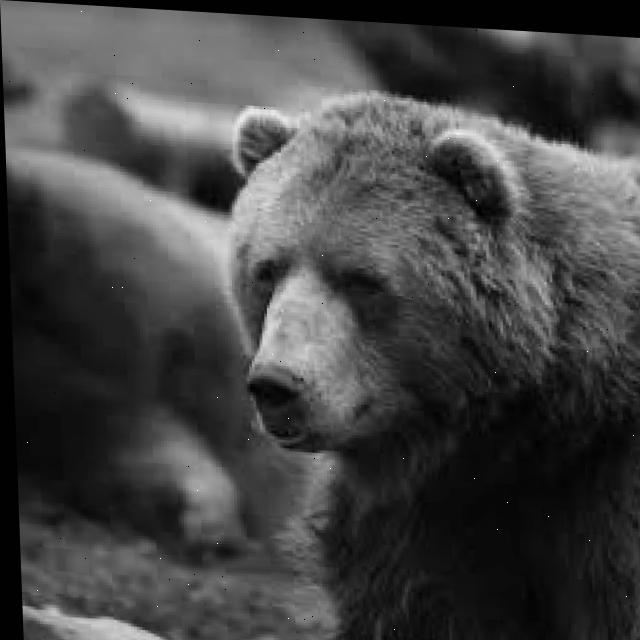Bear: (219, 93, 640, 640)
